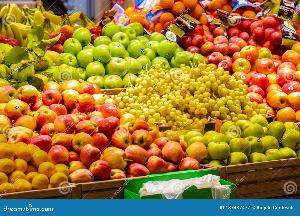apple: (14, 88, 160, 176), (59, 23, 202, 88), (196, 114, 300, 178), (228, 42, 300, 120), (189, 16, 300, 62)
banana: (1, 2, 86, 44)
grape: (114, 58, 258, 134)
